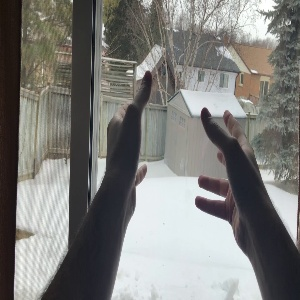hand: (194, 106, 264, 238), (105, 70, 152, 208)
